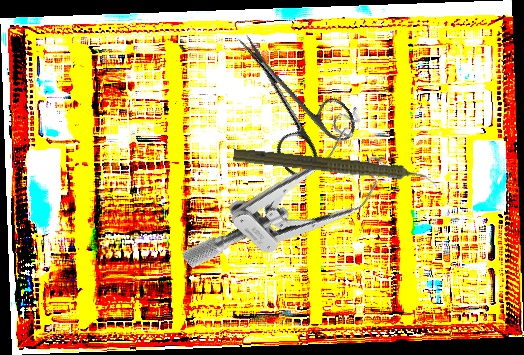Handpiece: (232, 145, 439, 191)
Iris Scissors: (205, 11, 367, 185)
Speculum: (179, 90, 412, 326)
